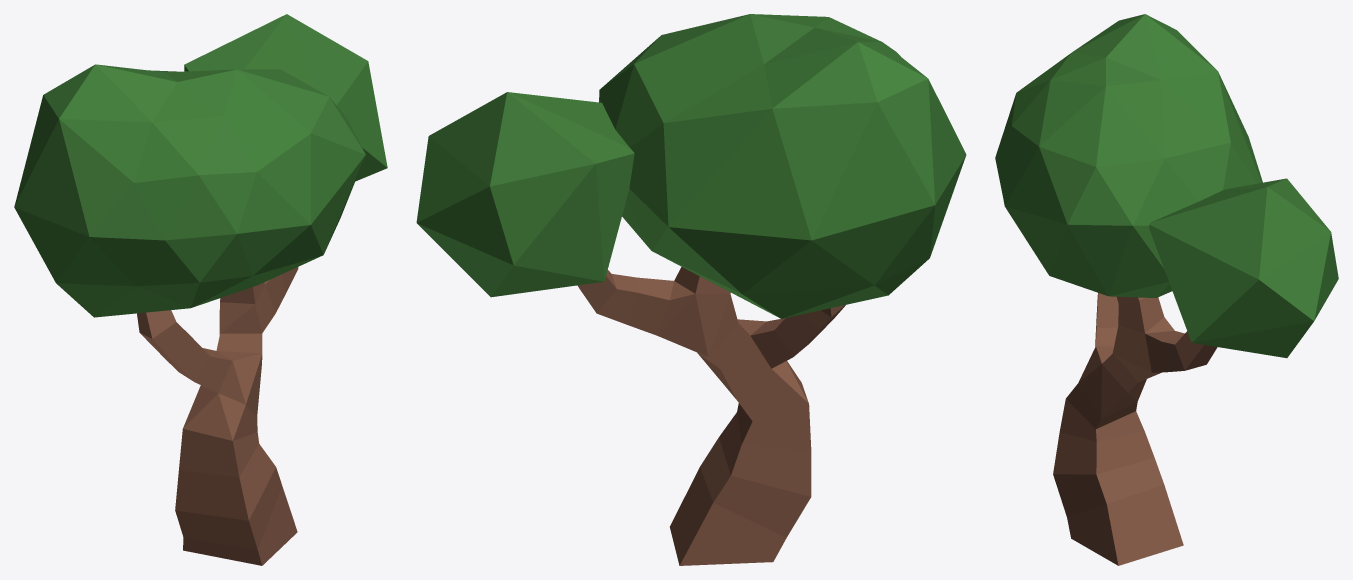
The model's file is ShortTree.fbx.
The picture shows the model from 3 angles, left to right: view 1: azimuth 30°, elevation 25°; view 2: azimuth 150°, elevation 25°; view 3: azimuth 270°, elevation 25°; orthographic projection. The views are drawn at different scales.
Visible parts, largest first — view 1: Cube.002; view 2: Cube.002; view 3: Cube.002.
Boxes of the visible parts, x1=… form: Cube.002: x1=14, y1=14, x2=387, y2=565; Cube.002: x1=416, y1=14, x2=966, y2=565; Cube.002: x1=995, y1=14, x2=1338, y2=565.
Bounding box in the file's own units: 3766 × 4414 × 2943.
